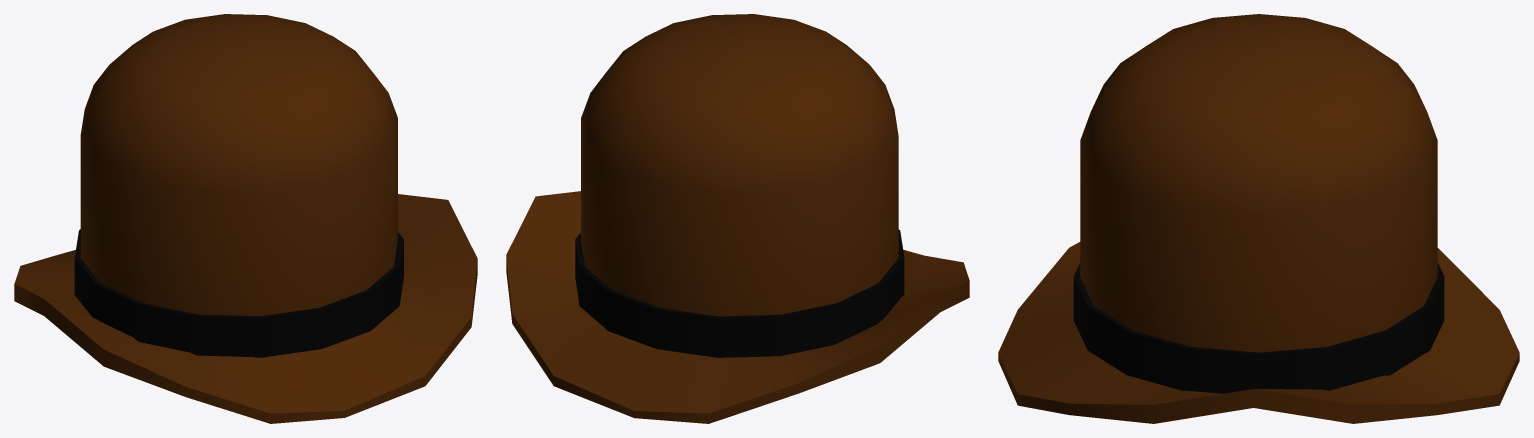
Rendered from ChapeuCocoTamanhoHumano.fbx.
The picture shows the model from 3 angles, left to right: view 1: azimuth 30°, elevation 25°; view 2: azimuth 150°, elevation 25°; view 3: azimuth 270°, elevation 25°; orthographic projection. The views are drawn at different scales.
Visible parts, largest first — view 1: ChapeuCocoTamanhoHumano; view 2: ChapeuCocoTamanhoHumano; view 3: ChapeuCocoTamanhoHumano.
Part boxes in pixels (bbox=[...]): ChapeuCocoTamanhoHumano: bbox=[14, 14, 477, 423]; ChapeuCocoTamanhoHumano: bbox=[506, 14, 969, 423]; ChapeuCocoTamanhoHumano: bbox=[998, 14, 1519, 423].
Size of the model in its own units: 39.76 by 27.04 by 39.76.
